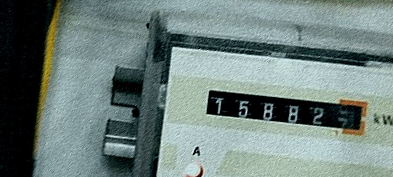1: (212, 95, 223, 114)
2: (310, 105, 325, 126)
5: (234, 98, 250, 118)
7: (334, 114, 348, 128)
8: (284, 102, 300, 124), (261, 100, 275, 121)
screen: (199, 81, 372, 140)
